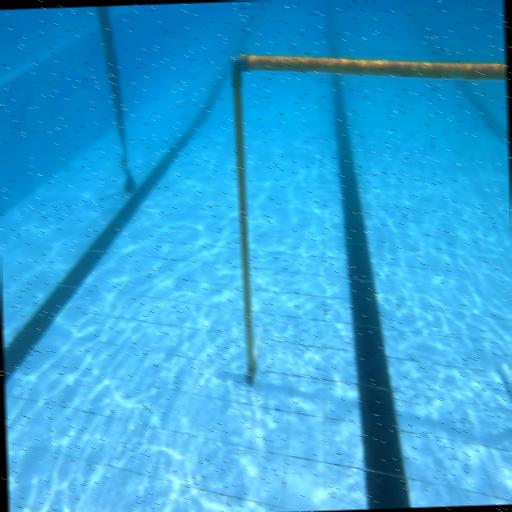gate: (229, 43, 512, 432)
